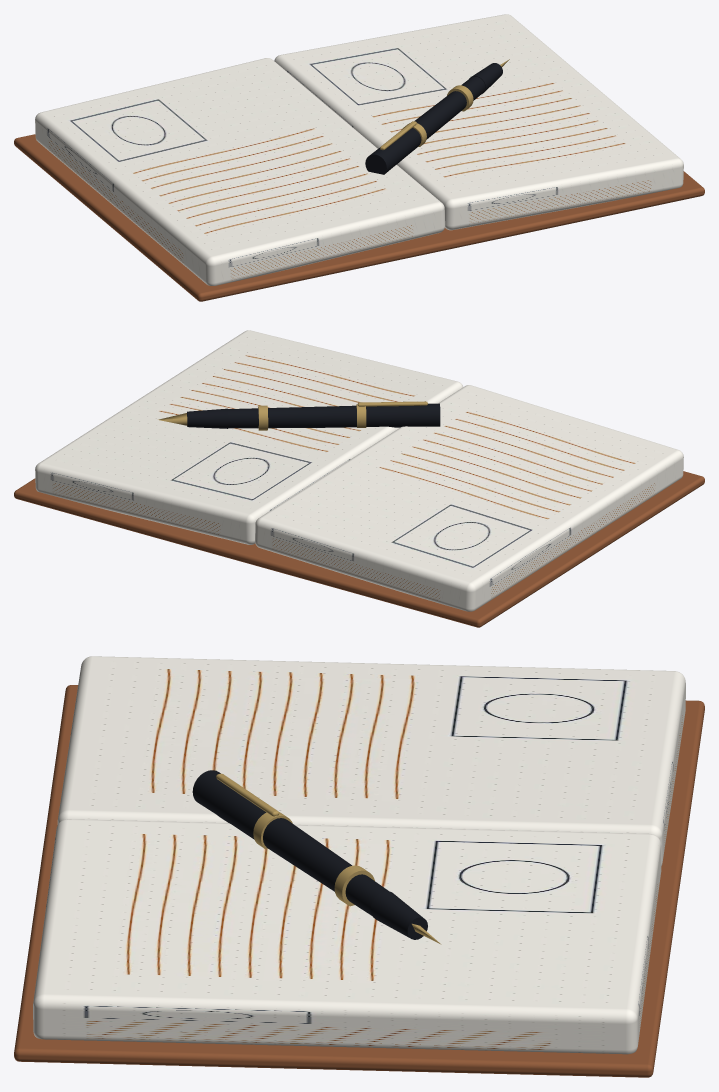
Rendered from atelier-decor-journal-heritage.glb.
The picture shows the model from 3 angles, top to bottom: view 1: azimuth 30°, elevation 25°; view 2: azimuth 150°, elevation 25°; view 3: azimuth 270°, elevation 25°; orthographic projection. The views are drawn at different scales.
Size of the model in its own units: 0.3145 by 0.0372 by 0.2395.
4 materials, 1 textured.
